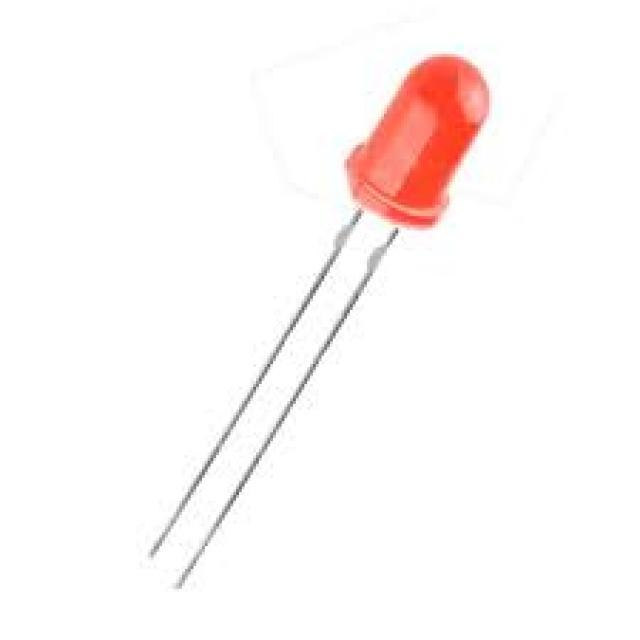Led: (151, 55, 489, 586)
